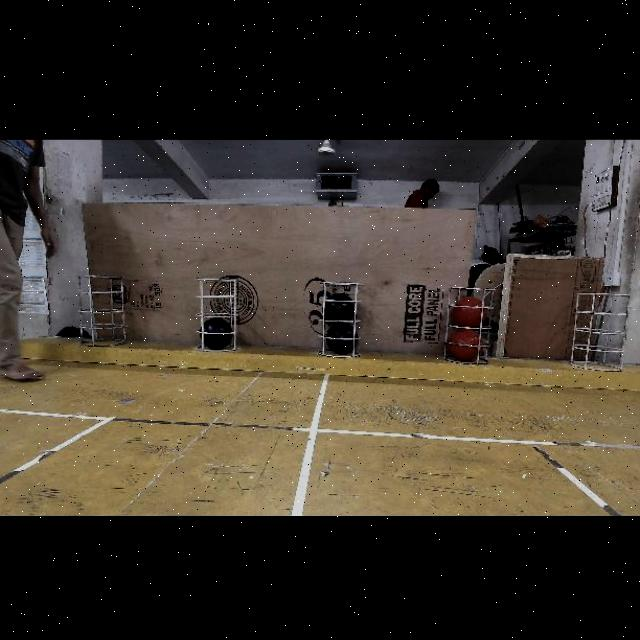P: (328, 323, 358, 353), (324, 294, 354, 324), (200, 319, 232, 347)
R: (448, 328, 482, 360), (454, 296, 486, 328)
S: (441, 279, 504, 366), (570, 284, 632, 370), (75, 270, 133, 350), (314, 278, 366, 358), (197, 271, 245, 353)
